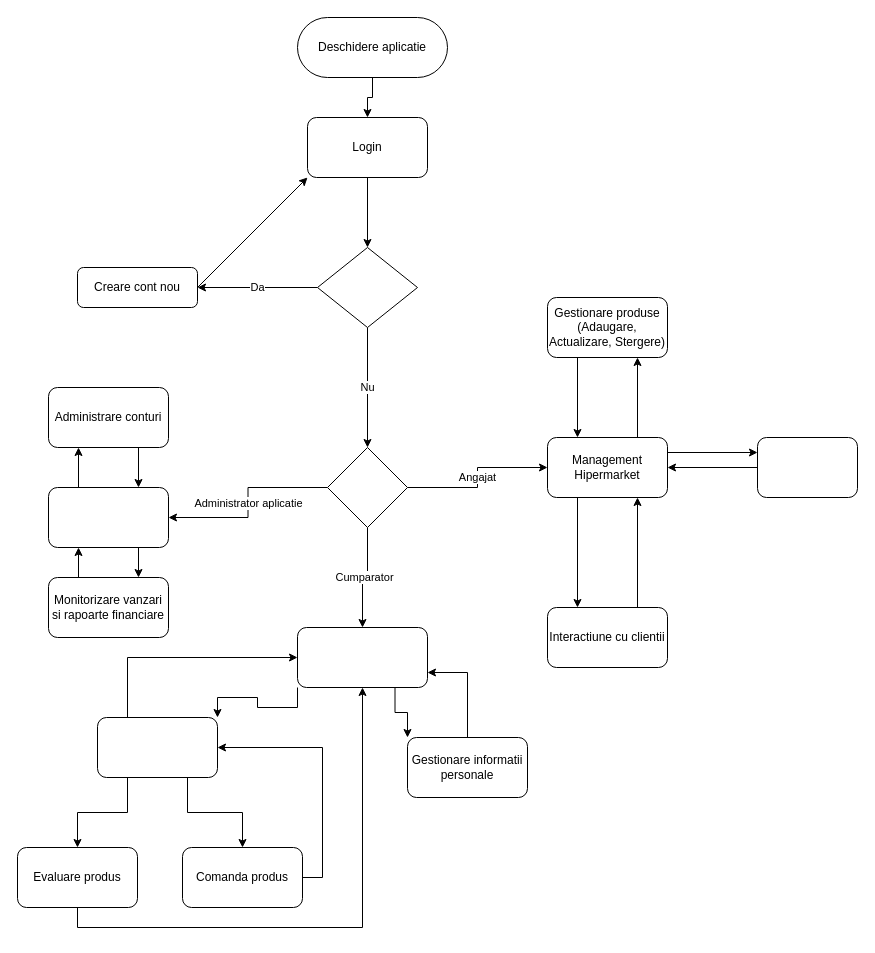
Image size: 875x953. Some labels were removed from this diagram. Each missing label, with the centre of its shape:
Actualizare informatii: the point at 807,467
Administrare aplicatie: the point at 108,517
Cautare produse: the point at 157,747
Ce fel de utilizator?: the point at 367,487
Cont nou?: the point at 367,287
Meniu aplicatie: the point at 362,657
